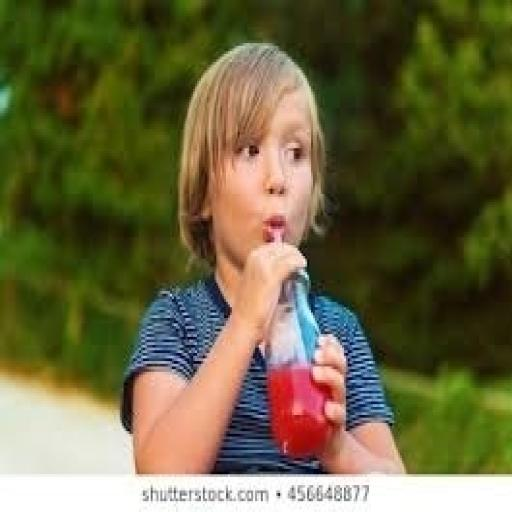drinking: (261, 226, 334, 458)
